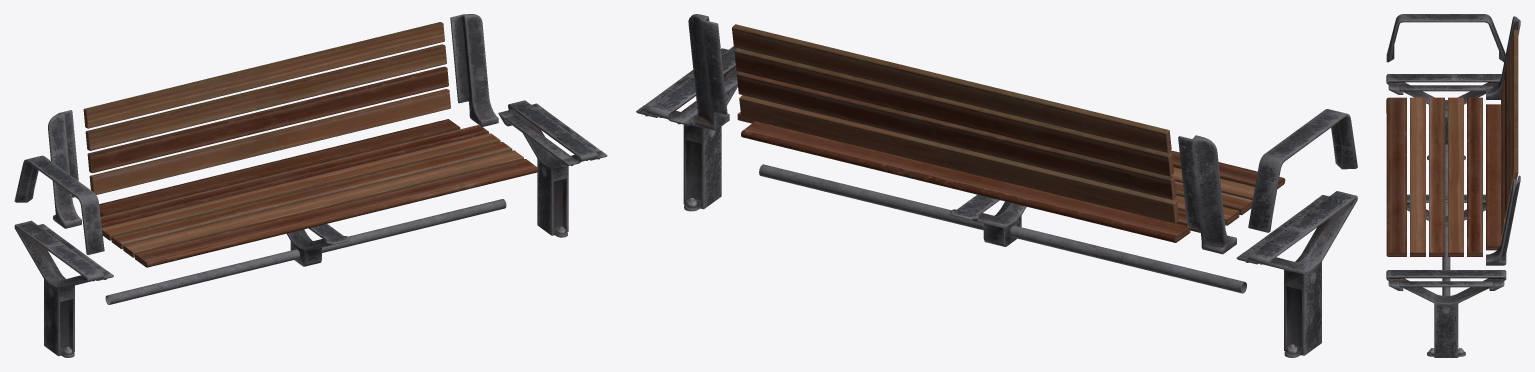
File: street_bench.glb
3 views of the same model, side by side, from view 1: azimuth 30°, elevation 25°; view 2: azimuth 150°, elevation 25°; view 3: azimuth 270°, elevation 25° (orthographic). The views are drawn at different scales.
Parts seen in each view (by area): view 1: seat, crossbar, legs_double; view 2: seat, crossbar, legs_double; view 3: seat, legs_double, crossbar.
Boxes of the visible parts, bbox=[...] form: seat: bbox=[83, 22, 538, 267]; crossbar: bbox=[14, 14, 506, 304]; legs_double: bbox=[14, 100, 607, 357]; seat: bbox=[732, 24, 1285, 242]; crossbar: bbox=[688, 14, 1357, 293]; legs_double: bbox=[636, 46, 1357, 357]; seat: bbox=[1386, 29, 1518, 256]; legs_double: bbox=[1386, 74, 1506, 357]; crossbar: bbox=[1386, 14, 1520, 295].
Size of the model in its own units: 2.45 by 0.8669 by 0.6704.
3 materials, 3 textured.
